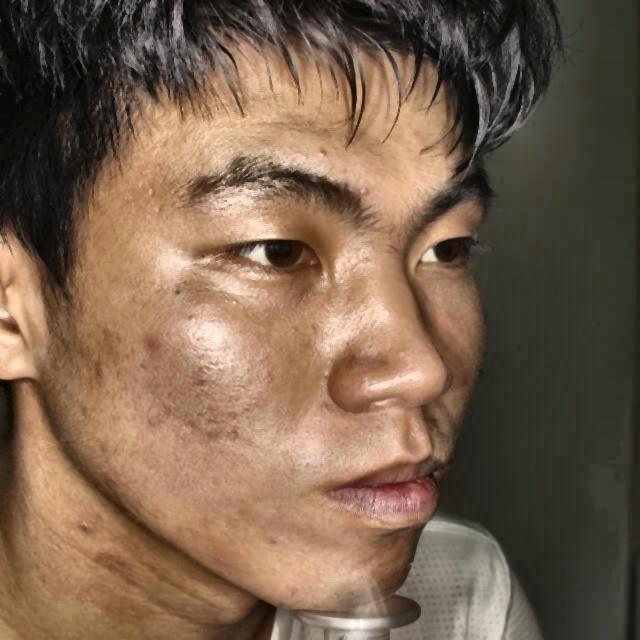comedone: (120, 327, 164, 367)
